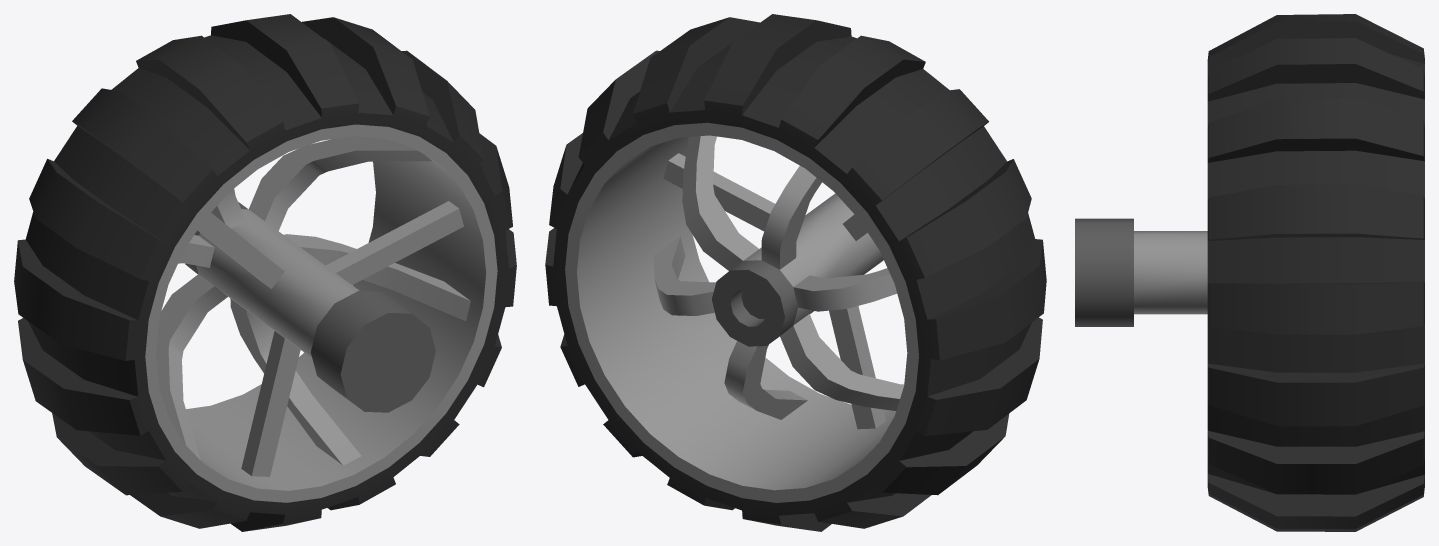
The model's file is llanta_del_izq.obj.
The picture shows the model from 3 angles, left to right: view 1: azimuth 30°, elevation 25°; view 2: azimuth 150°, elevation 25°; view 3: azimuth 270°, elevation 25°; orthographic projection.
Parts seen in each view (by area): view 1: llanta_del_izq; view 2: llanta_del_izq; view 3: llanta_del_izq.
Part boxes in pixels (<box>): llanta_del_izq: <box>14,14,516,531</box>; llanta_del_izq: <box>545,14,1046,531</box>; llanta_del_izq: <box>1075,14,1424,531</box>.
Bounding box in the file's own units: 2.48 × 2.48 × 1.67.
